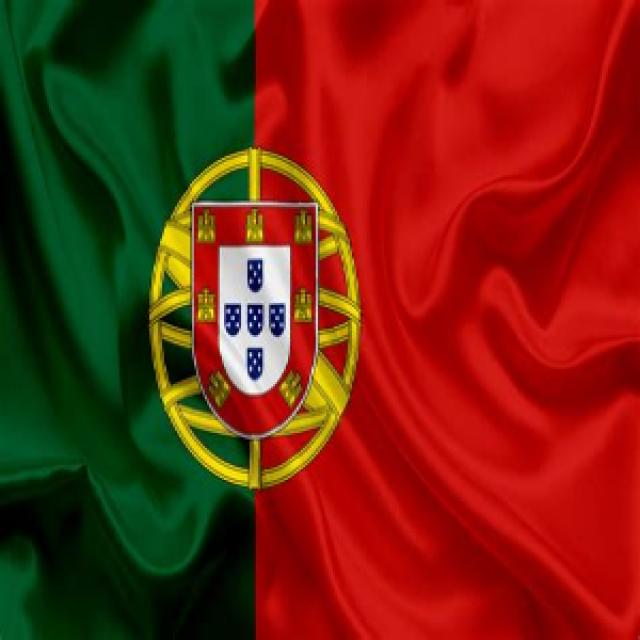portugal: (5, 1, 640, 640)
